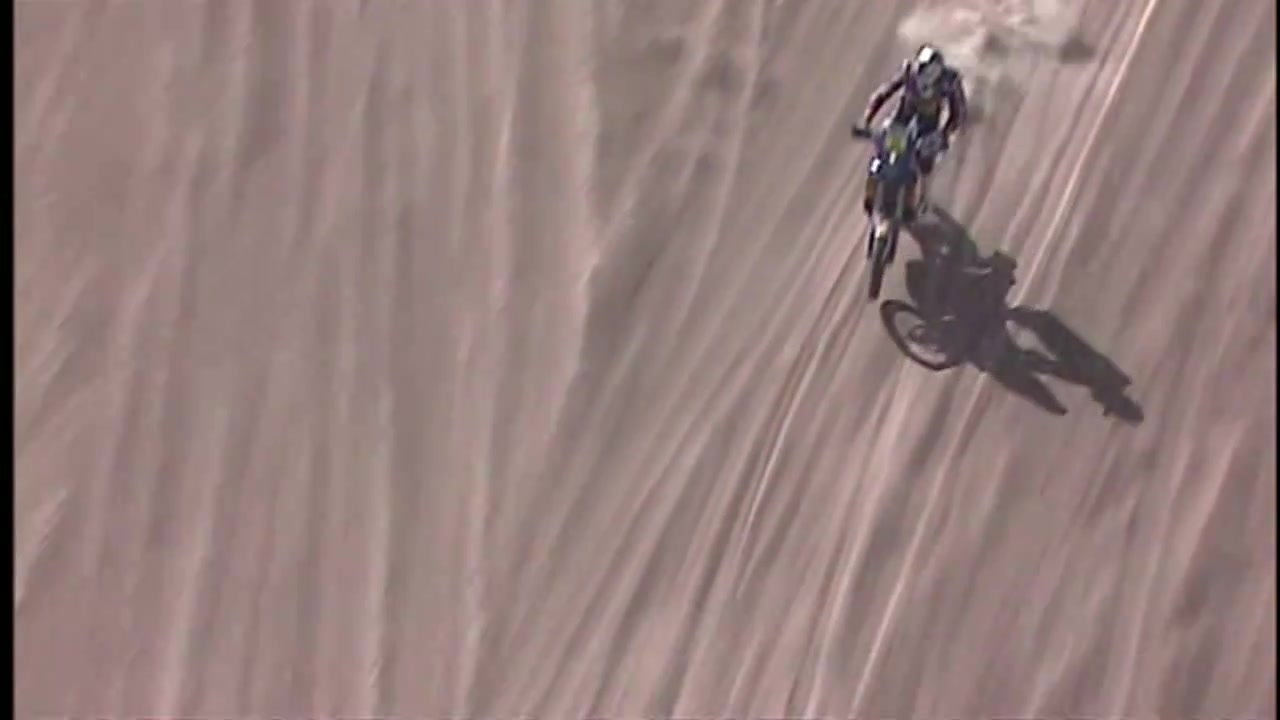motorbike: (848, 109, 937, 304)
